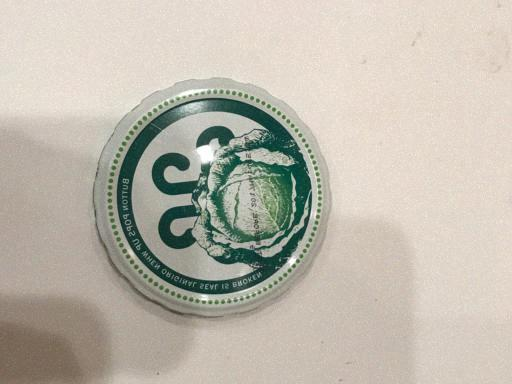metal: (89, 73, 333, 321)
